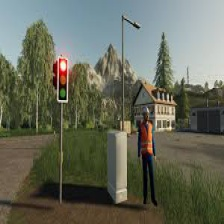semaforo: (56, 57, 68, 101)
